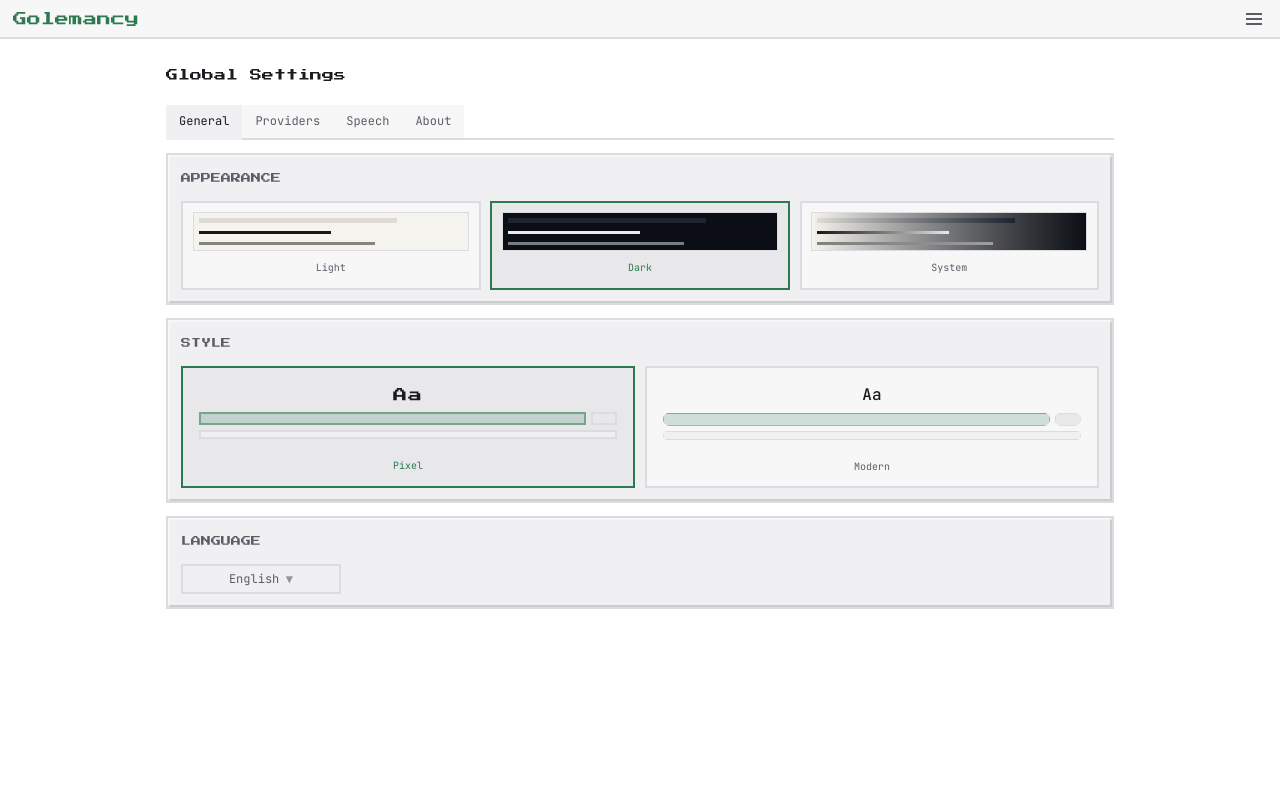
Scenario: GlobalSettingsPage › switches to Providers tab and shows provider list
Click the button "Providers" at (288, 122), box left=242, top=104, right=333, bottom=140
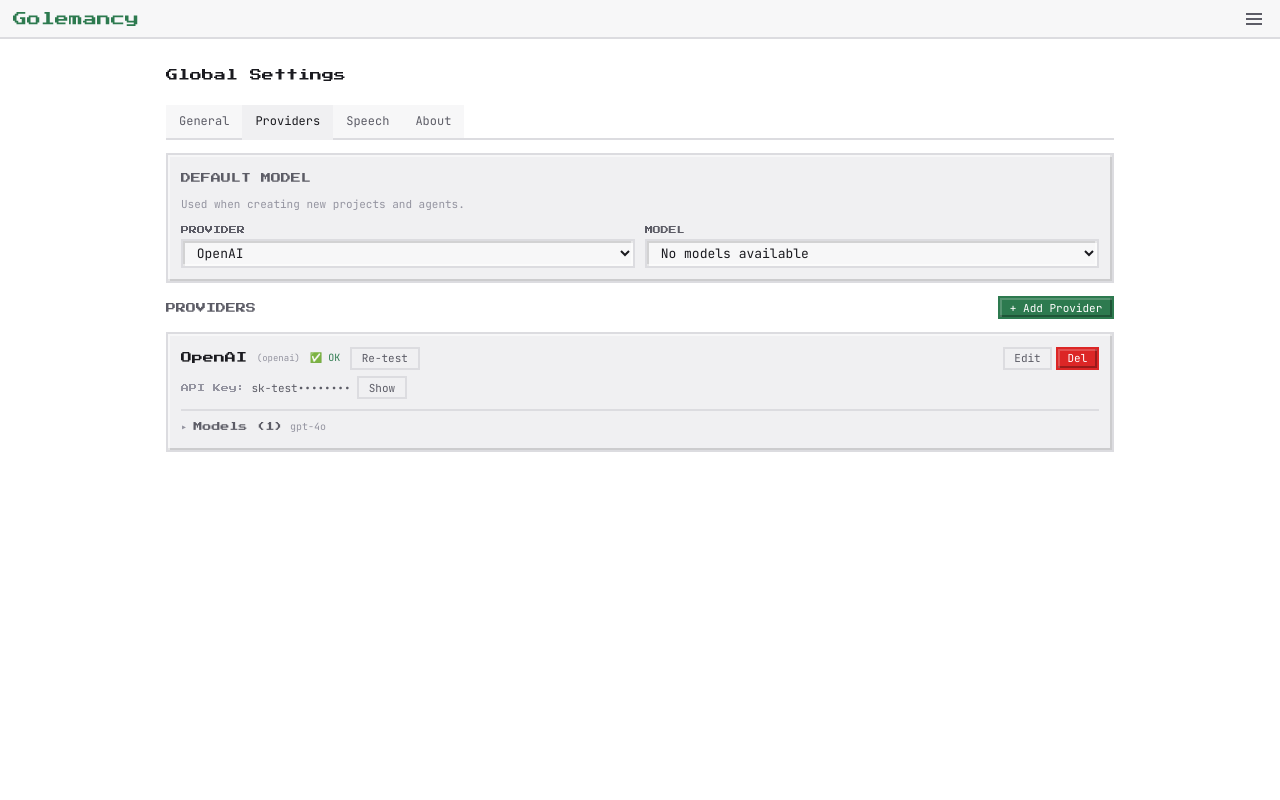
Expected: the text "PROVIDERS" is shown, left=166, top=303, right=256, bottom=313
